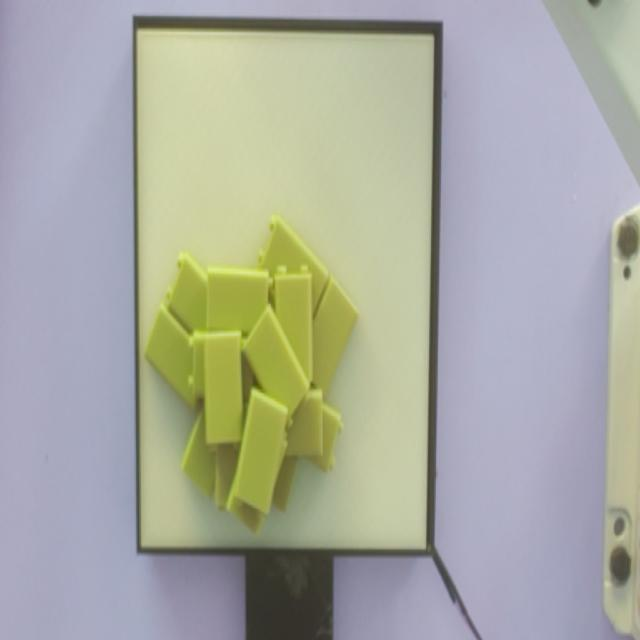bateria: (232, 388, 288, 522)
mesa: (134, 18, 441, 558)
